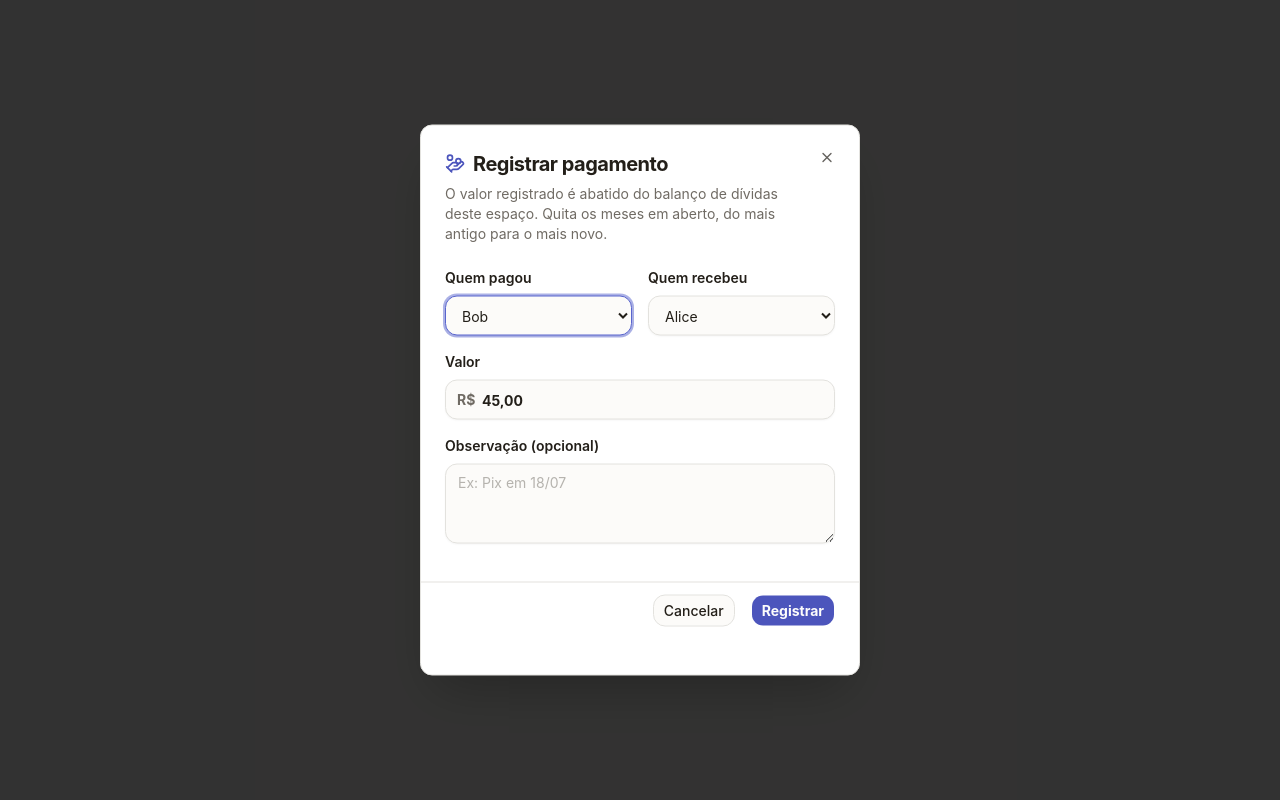
SettlementDialog › valida pagador == recebedor localmente
Select "Bob" in the dropdown labelled "Quem recebeu" at (742, 316), box [648,296,835,336]
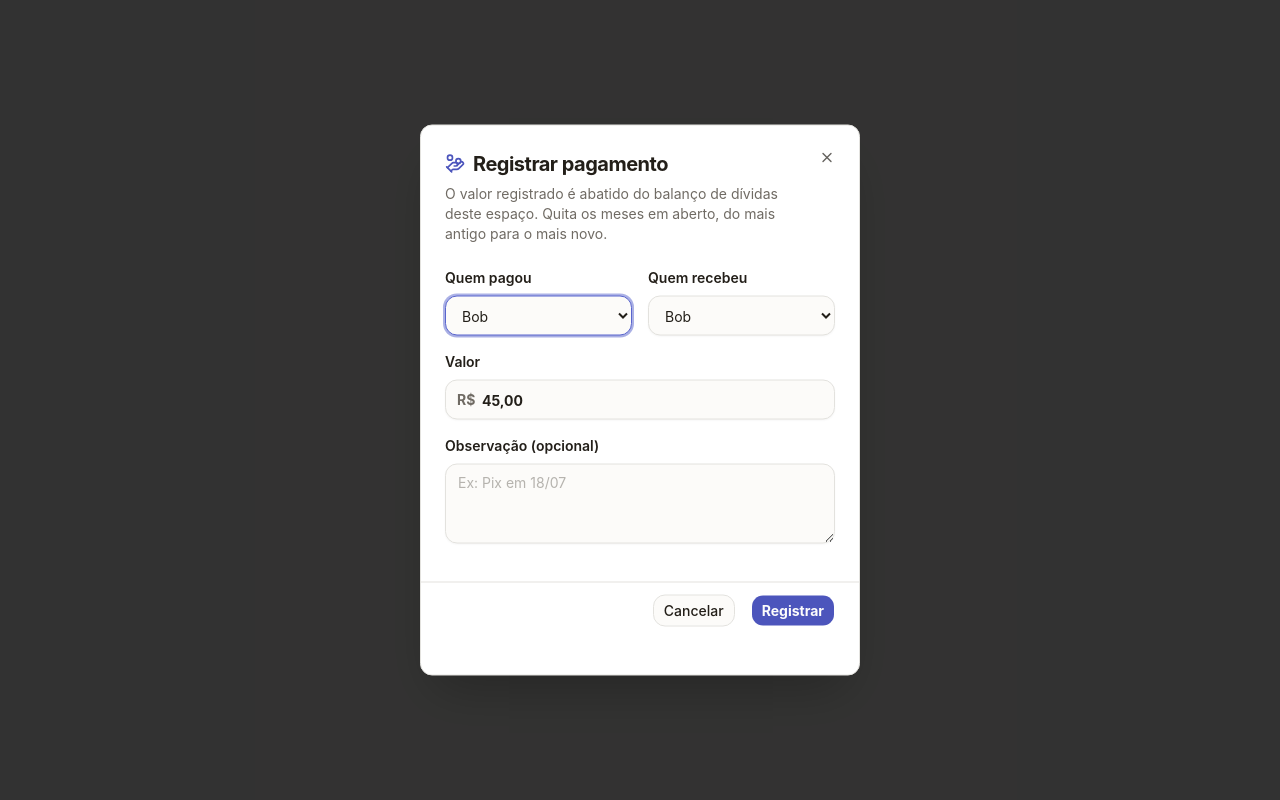
Click the button "Registrar" at (793, 610), box [751,594,835,626]
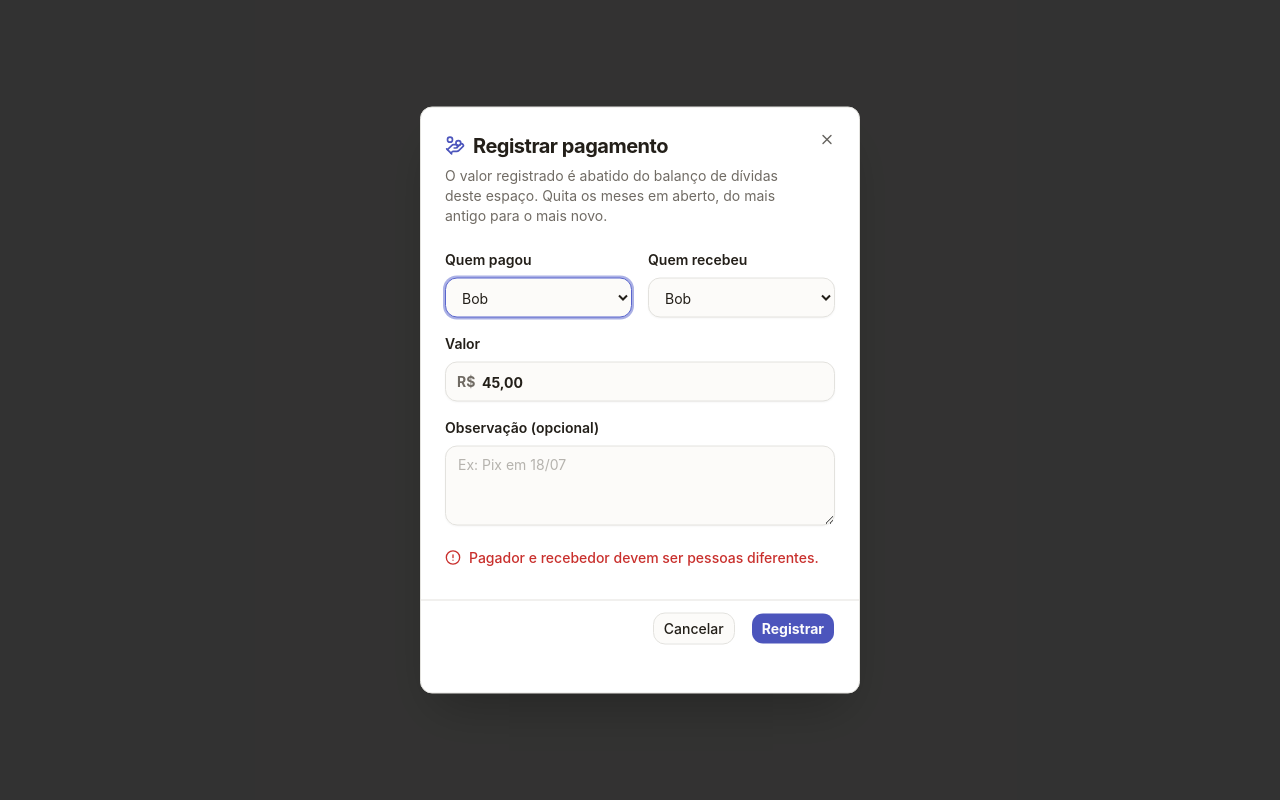
Now the message shows "pessoas diferentes", box [469,548,819,566]
